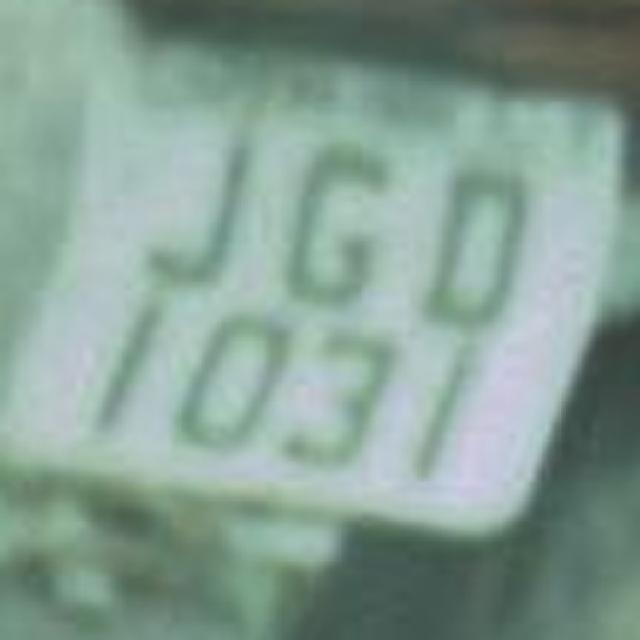0: (160, 284, 300, 476)
1: (80, 284, 165, 444), (396, 336, 476, 496)
3: (264, 304, 408, 491)
5: (63, 467, 256, 640)
J: (124, 112, 264, 300)
O: (404, 148, 548, 344)
